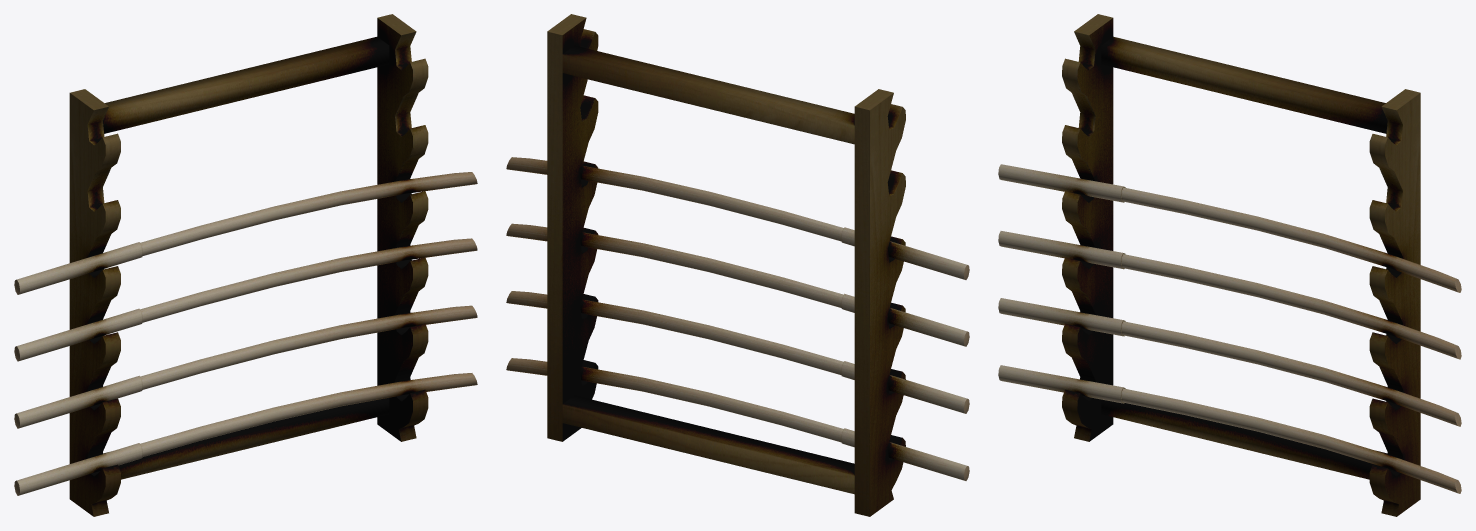
The model's file is bokken1.c.fbx.
The picture shows the model from 3 angles, left to right: view 1: azimuth 30°, elevation 25°; view 2: azimuth 150°, elevation 25°; view 3: azimuth 330°, elevation 25°; orthographic projection.
Parts seen in each view (by area): view 1: Group 0; view 2: Group 0; view 3: Group 0.
Boxes of the visible parts, x1,y1,x2,y2 form: Group 0: [14, 14, 477, 516]; Group 0: [506, 14, 969, 516]; Group 0: [998, 14, 1461, 516].
Bounding box in the file's own units: 177 × 149 × 23.89.
1 material, 1 textured.
